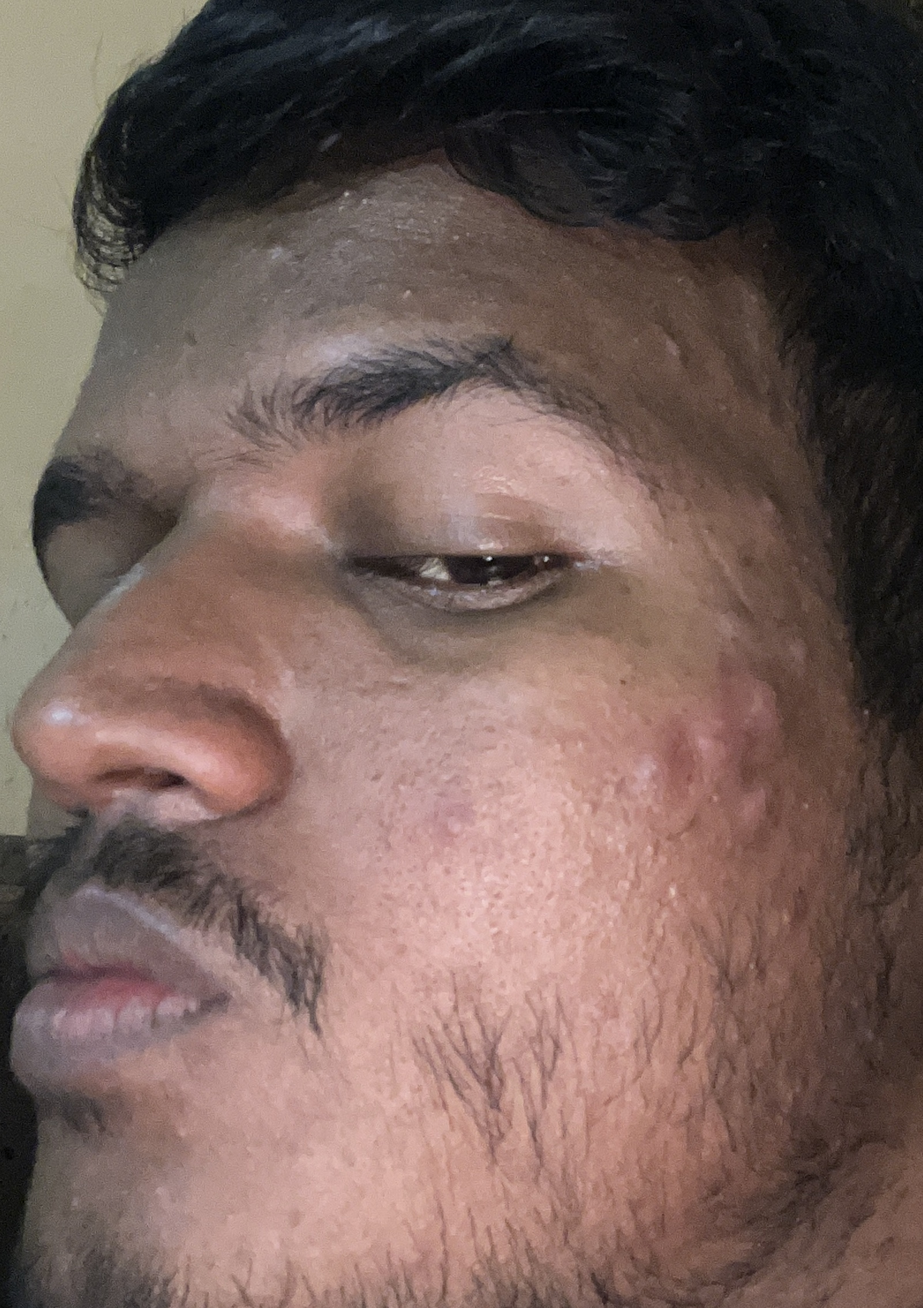nodule: (610, 738, 716, 825), (725, 766, 777, 848), (731, 671, 792, 736)
papule: (634, 315, 705, 378), (749, 473, 809, 533), (783, 617, 828, 686), (244, 242, 317, 281)
